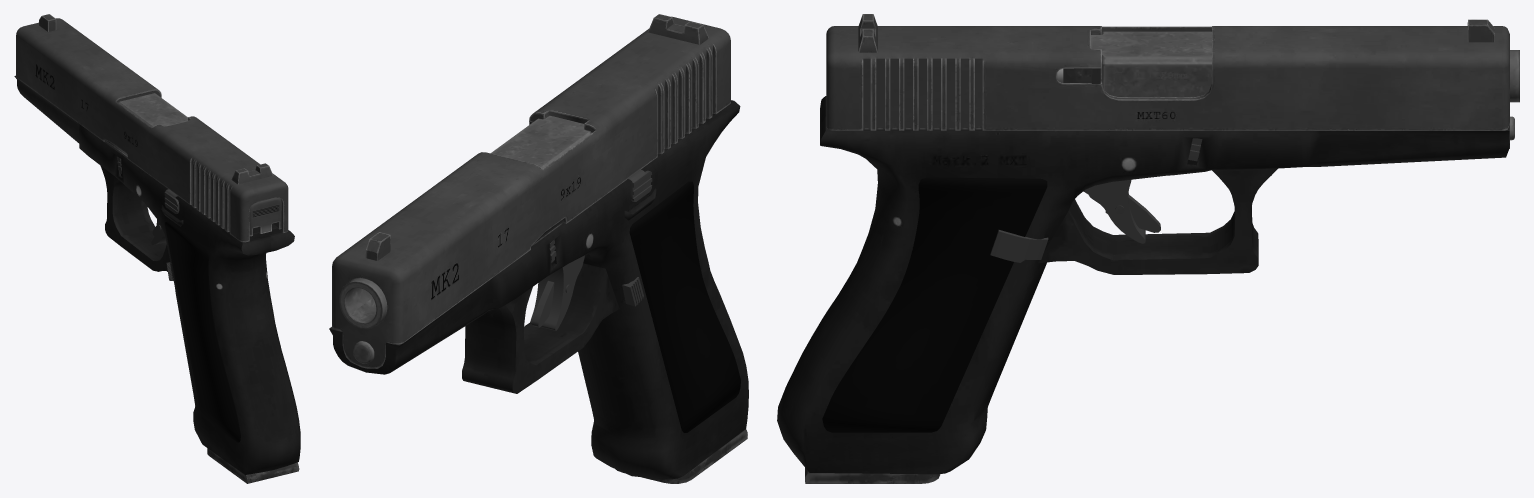
Rendered from pistol9.glb.
3 views of the same model, side by side, from view 1: azimuth 30°, elevation 25°; view 2: azimuth 150°, elevation 25°; view 3: azimuth 270°, elevation 25° (orthographic). The views are drawn at different scales.
Visible parts, largest first — view 1: Cube005_9m2_0, Cube005_9m1_0; view 2: Cube005_9m2_0, Cube005_9m1_0; view 3: Cube005_9m2_0, Cube005_9m1_0.
Part boxes in pixels (left/top/right/bottom): Cube005_9m2_0: left=16, top=14, right=299, bottom=483; Cube005_9m1_0: left=14, top=75, right=300, bottom=474; Cube005_9m2_0: left=332, top=14, right=747, bottom=483; Cube005_9m1_0: left=329, top=100, right=748, bottom=479; Cube005_9m2_0: left=805, top=14, right=1519, bottom=483; Cube005_9m1_0: left=777, top=96, right=1509, bottom=474.
Bounding box in the file's own units: 0.334 × 1.58 × 2.4.
2 materials, 2 textured.
